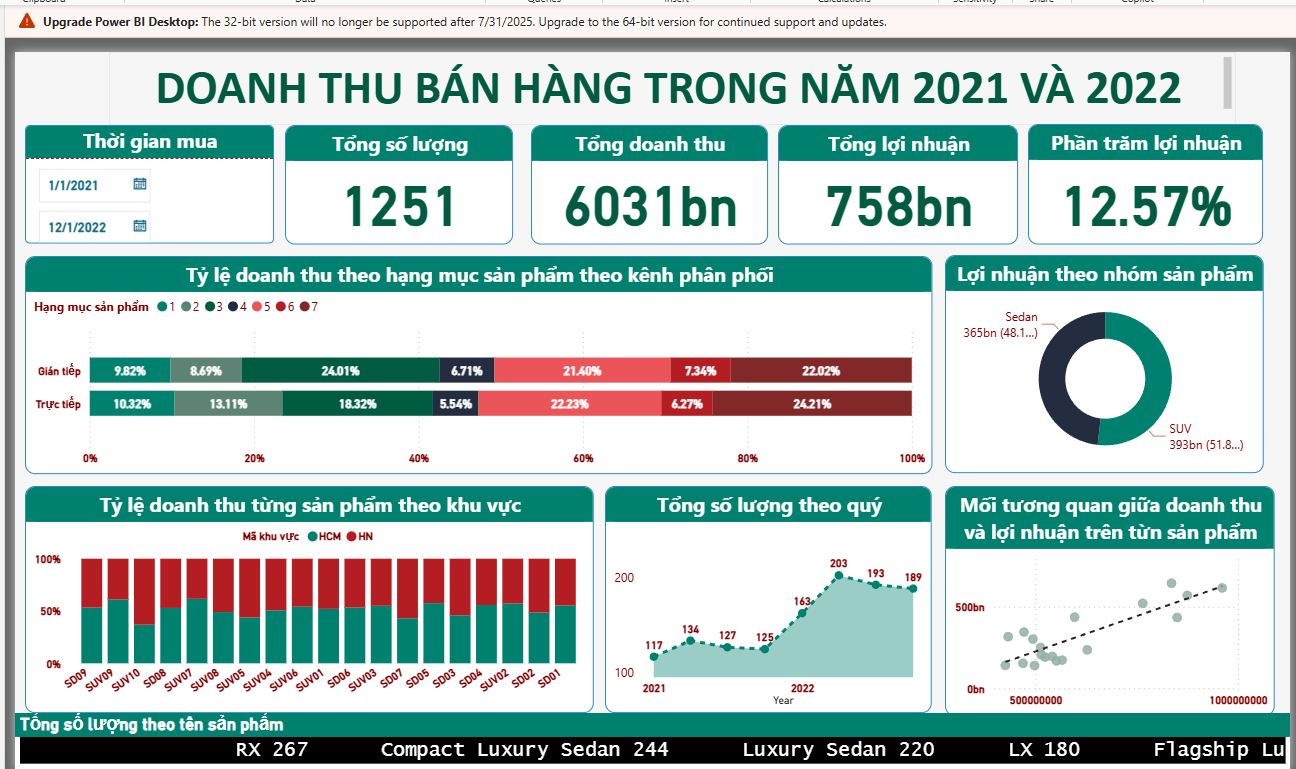

This screenshot's page, from the dashboard's own definition file:
{"tool":"powerbi","page":{"name":"Doanh thu bán hàng","canvas":[1280,720],"ordinal":0},"visuals":[{"type":"textbox","box":[94.1,0,1131.7,73.2],"z":0},{"type":"slicer","title":"Thời gian mua","fields":{"Values":["Date.Lịch mua"]},"box":[10,73.1,249.5,119],"z":1000},{"type":"card","title":"Tổng số lượng","fields":{"Values":["Bán hàng.Tổng số lượng"]},"box":[271,73.1,229.4,120.5],"z":2000},{"type":"card","title":"Tổng doanh thu ","fields":{"Values":["Bán hàng.Tổng doanh thu"]},"box":[517.7,73.1,238,120.5],"z":3000},{"type":"card","title":"Tổng lợi nhuận","fields":{"Values":["Bán hàng.Tổng lợi nhuận"]},"box":[765.8,73.1,240.9,120.5],"z":4000},{"type":"stackedAreaChart","title":"Tổng số lượng theo quý","fields":{"Y":["Bán hàng.Tổng số lượng"],"Category":["Date.Lịch mua.Variation.Date Hierarchy.Year","Date.Lịch mua.Variation.Date Hierarchy.Quarter"]},"box":[592.2,435.9,328.4,228],"z":5000},{"type":"hundredPercentStackedColumnChart","title":"Tỷ lệ doanh thu từng sản phẩm theo khu vực","fields":{"Y":["Bán hàng.Tổng doanh thu"],"Series":["Khu vực.Mã khu vực"],"Category":["Sản phẩm.Mã sản phẩm"]},"box":[10,435.9,570.7,228],"z":6000},{"type":"scatterChart","title":"Mối tương quan giữa doanh thu và lợi nhuận trên từn sản phẩm","fields":{"X":["Bán hàng.Lợi nhuận"],"Y":["Bán hàng.Doanh thu"]},"box":[933.9,436,331.1,231.1],"z":7000},{"type":"hundredPercentStackedBarChart","title":"Tỷ lệ doanh thu theo hạng mục sản phẩm theo kênh phân phối","fields":{"Category":["Kênh phân phối.Kênh phân phối"],"Series":["Sản phẩm.Hạng mục sản phẩm"],"Y":["Bán hàng.Tổng doanh thu 2022"]},"box":[10,205,911.2,218.8],"z":8000},{"type":"donutChart","title":"Lợi nhuận theo nhóm sản phẩm","fields":{"Y":["Sum(Bán hàng.Lợi nhuận)"],"Category":["Sản phẩm.Nhóm sản phẩm"]},"box":[933.5,203.6,319.8,219.4],"z":9000},{"type":"ScrollingTextVisual1448795304508","title":"Tổng số lượng theo tên sản phẩm","fields":{"Category":["Sản phẩm.Tên sản phẩm"],"Measure Absolute":["Bán hàng.Tổng số lượng"]},"box":[0,663.9,1280.6,55.9],"z":10000},{"type":"card","title":"Phần trăm lợi nhuận","fields":{"Values":["Bán hàng.% Lợi nhuận"]},"box":[1017.2,72.7,235.8,121.5],"z":11000}]}

Visuals, with their boxes on the page's 1280x720 design canvas (x1, y1, x2, y2). These are canvas units, not pixel positions in the 1296x769 screenshot, which may show the page scaled, cropped or inside an application window:
textbox: (94,0,1226,73)
"Thời gian mua" slicer: (10,73,260,192)
"Tổng số lượng" card: (271,73,500,194)
"Tổng doanh thu " card: (518,73,756,194)
"Tổng lợi nhuận" card: (766,73,1007,194)
"Tổng số lượng theo quý" stackedAreaChart: (592,436,921,664)
"Tỷ lệ doanh thu từng sản phẩm theo khu vực" hundredPercentStackedColumnChart: (10,436,581,664)
"Mối tương quan giữa doanh thu và lợi nhuận trên từn sản phẩm" scatterChart: (934,436,1265,667)
"Tỷ lệ doanh thu theo hạng mục sản phẩm theo kênh phân phối" hundredPercentStackedBarChart: (10,205,921,424)
"Lợi nhuận theo nhóm sản phẩm" donutChart: (934,204,1253,423)
"Tổng số lượng theo tên sản phẩm" ScrollingTextVisual1448795304508: (0,664,1281,720)
"Phần trăm lợi nhuận" card: (1017,73,1253,194)
